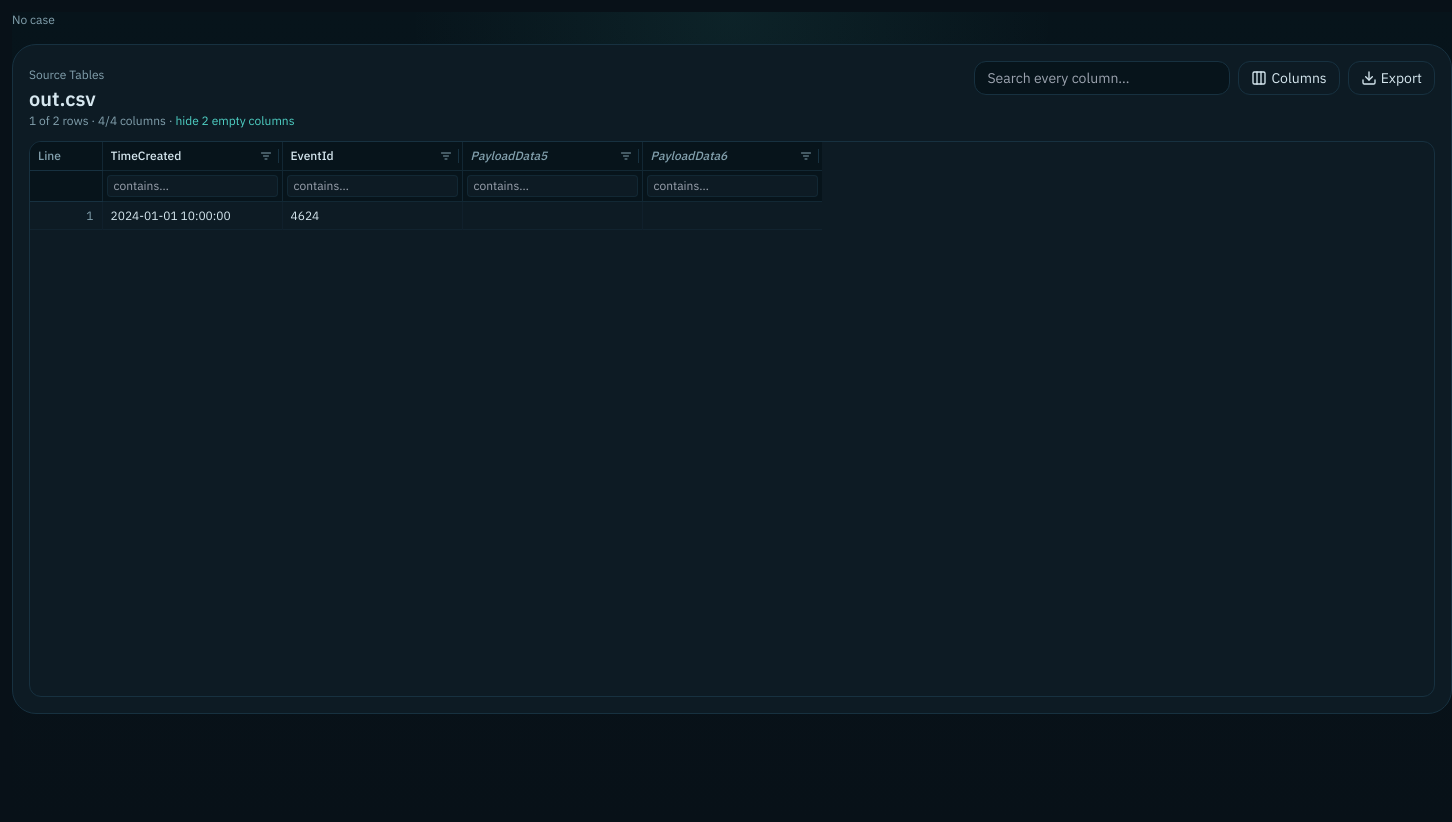
Scenario: SourceTablesPage › flags empty columns and hides them all at once
Click the button "hide 2 empty columns".
click(235, 121)  # box [175,113,294,129]
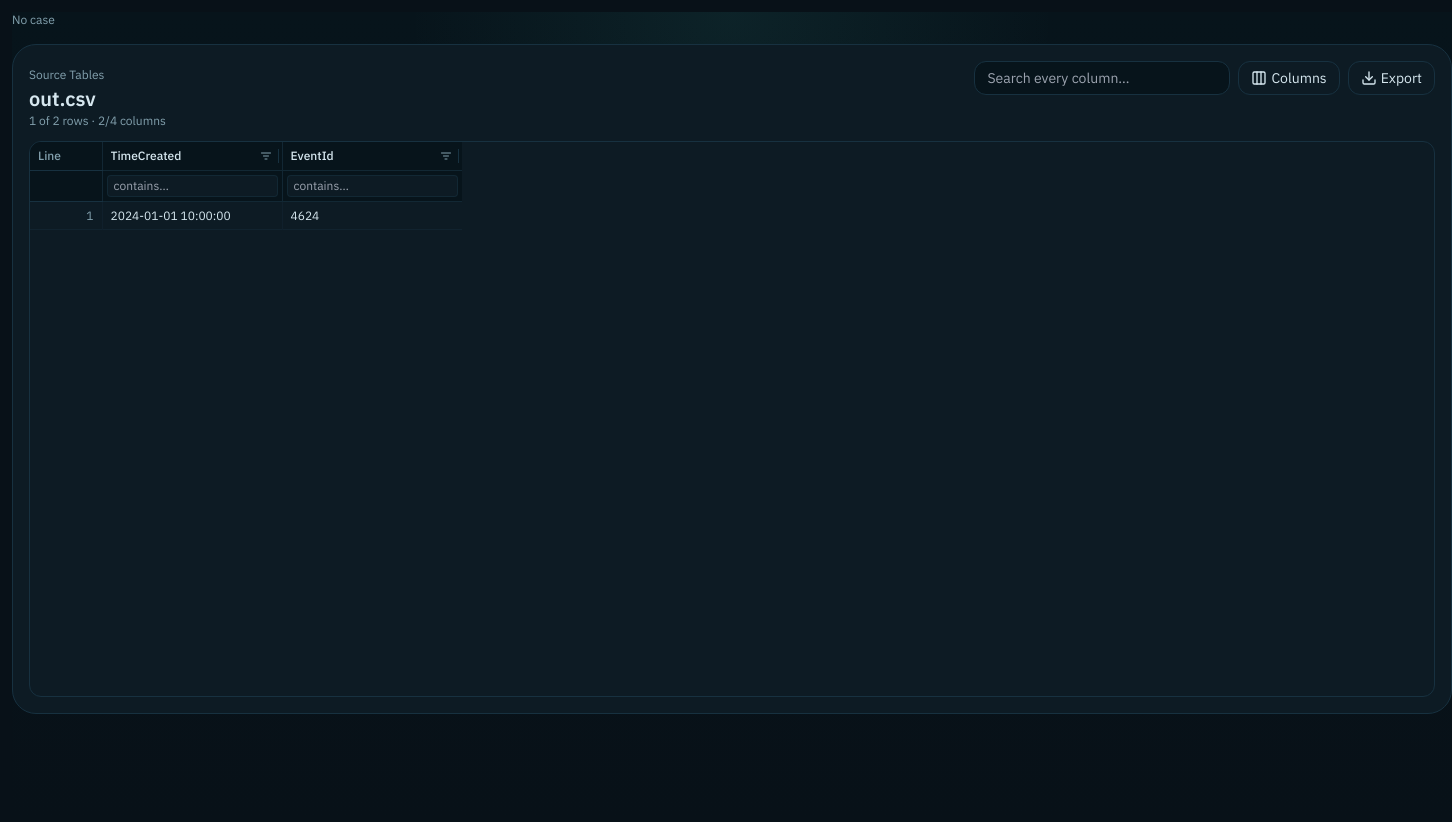
Expected: the button "PayloadData5" is gone
Expected: the button "PayloadData6" is gone
Expected: the text "1 of 2 rows · 2/4 columns" is shown, [29,113,166,129]
